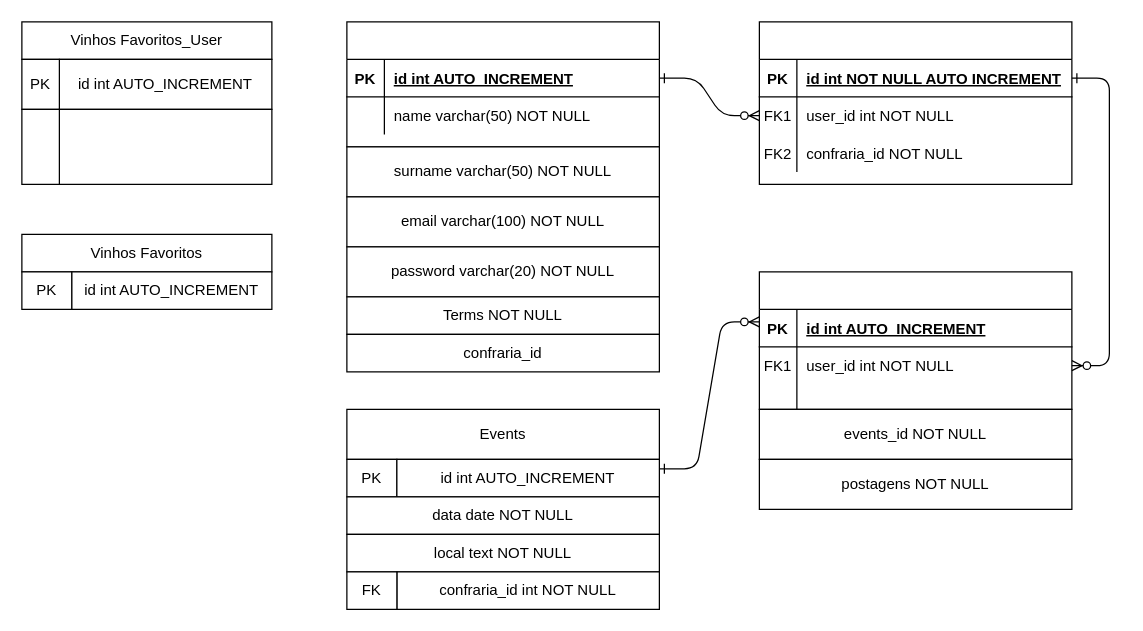
Some shapes in this 1143 by 631 pixel diagram are drawn without their labels. The box of each missing label's shape, as (x1, y1, x2, y2) in pixels:
Confraria: (758, 271, 1072, 409)
Confraria_User: (758, 21, 1072, 184)
FK1 FK2: (21, 108, 59, 184)
User: (346, 21, 659, 147)
user_id int NOT NULL Vinhos Favoritos_id: (58, 108, 272, 184)
